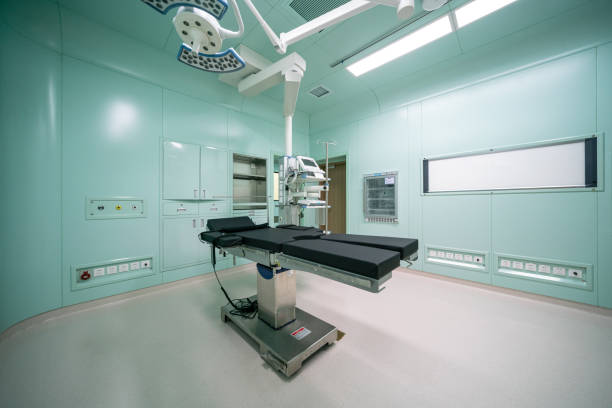bedside_monitor: (295, 156, 323, 175)
handle: (200, 218, 206, 228), (192, 218, 198, 228), (193, 190, 199, 200), (202, 190, 208, 200), (178, 208, 189, 212), (209, 207, 220, 211)
iv_pole: (315, 135, 339, 228)
operating_bed: (198, 215, 422, 380)
surgical_light: (138, 1, 249, 74)
